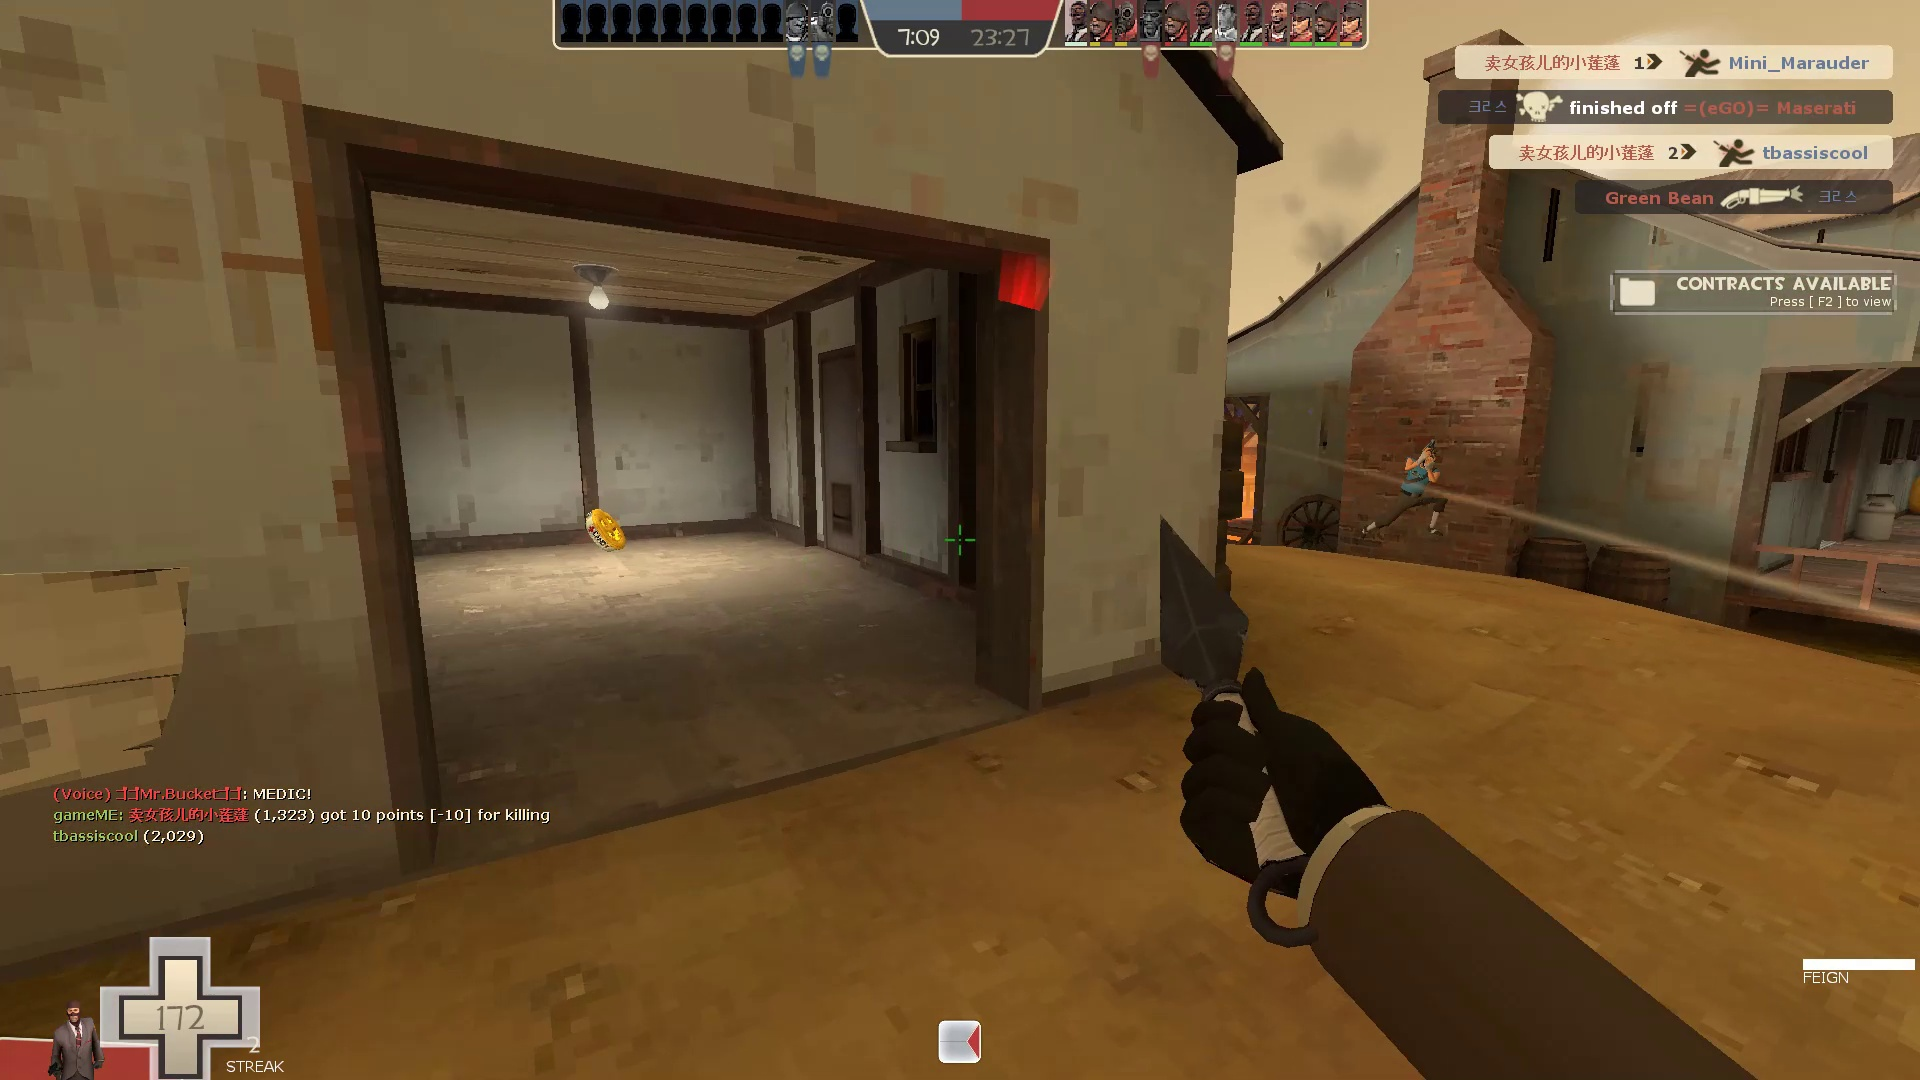blu_scout: (1352, 434, 1460, 546)
